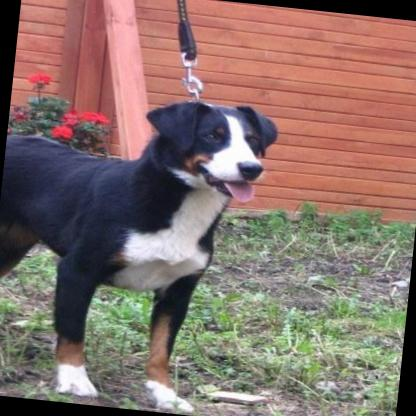Appenzeller: (0, 76, 281, 416)
